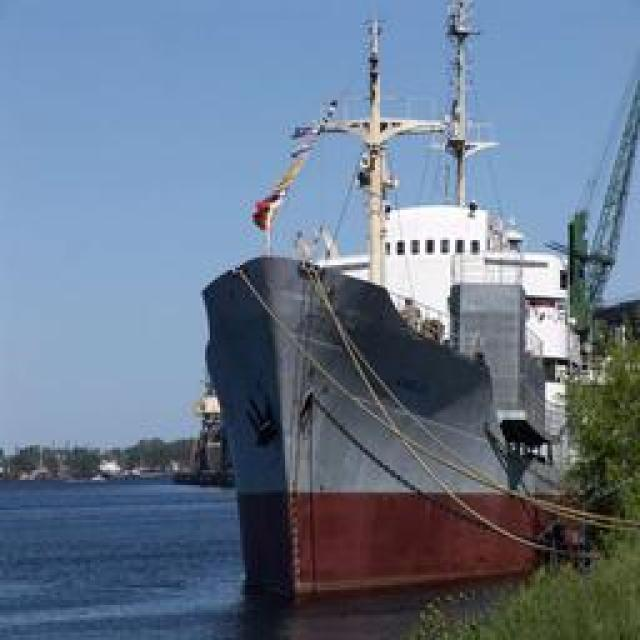ship2: (203, 0, 579, 600)
